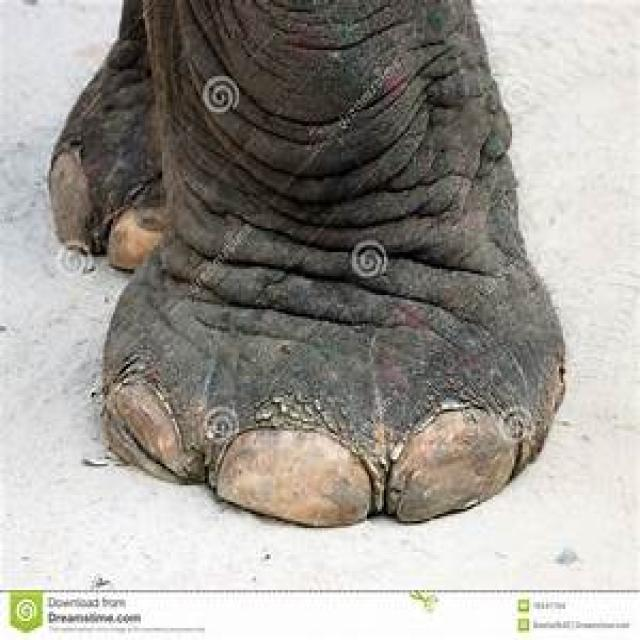elephant: (51, 0, 567, 531)
